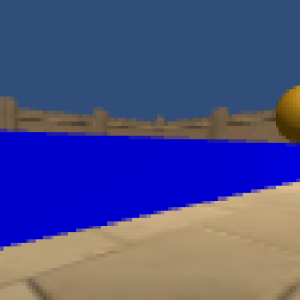goodGoalMulti: (273, 80, 300, 142)
platform: (1, 129, 300, 242)
